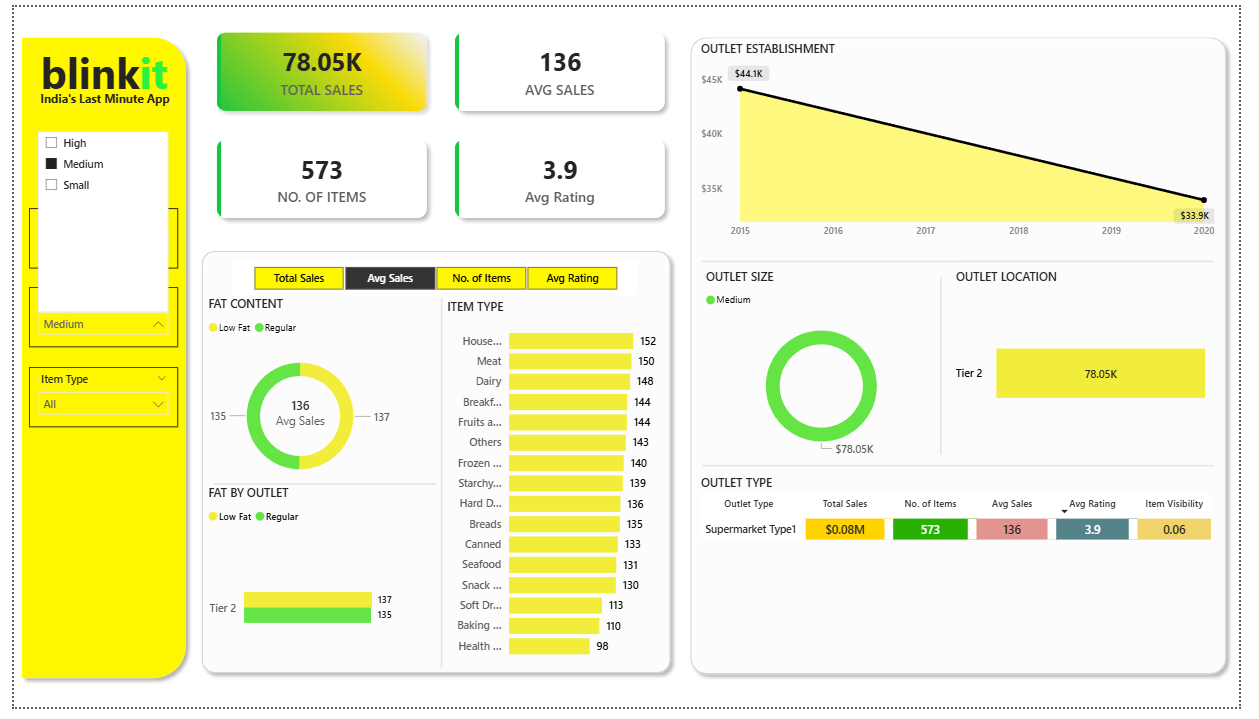

The page's visual inventory and layout, read from the dashboard file:
{"tool":"powerbi","page":{"name":"Page 1","canvas":[1400,800],"ordinal":0},"visuals":[{"type":"shape","box":[0,25.5,205.6,750.4],"z":0},{"type":"textbox","box":[22.5,90.1,162.1,30],"z":1000},{"type":"textbox","box":[4.5,37.5,198.1,82.5],"z":2000},{"type":"cardVisual","fields":{"Data":["BlinkIT Grocery Data.Total Sales","BlinkIT Grocery Data.Avg Sales","BlinkIT Grocery Data.No. of Items","BlinkIT Grocery Data.Avg Rating"]},"box":[203.3,0,570,270],"z":3000},{"type":"shape","box":[205,270,553.3,500],"z":4000},{"type":"slicer","fields":{"Values":["Matrics.Matrics"]},"box":[248.3,290,465,40],"z":5000},{"type":"donutChart","title":"FAT CONTENT","fields":{"Y":["BlinkIT Grocery Data.Avg Sales"],"Category":["BlinkIT Grocery Data.Item Fat Content"]},"box":[216.7,330,220,230],"z":6000},{"type":"cardVisual","fields":{"Data":["BlinkIT Grocery Data.Avg Sales"]},"box":[245,425,163.3,75],"z":7000},{"type":"clusteredBarChart","title":"FAT BY OUTLET","fields":{"Y":["BlinkIT Grocery Data.Avg Sales"],"Category":["BlinkIT Grocery Data.Outlet Location Type"],"Series":["BlinkIT Grocery Data.Item Fat Content"]},"box":[216.7,545,220,230],"z":8000},{"type":"shape","box":[228.3,410,253.3,270],"z":9000},{"type":"shape","box":[353.3,333.3,271.7,421.7],"z":10000},{"type":"barChart","title":"ITEM TYPE","fields":{"Y":["BlinkIT Grocery Data.Avg Sales"],"Category":["BlinkIT Grocery Data.Item Type"]},"box":[490,333.3,251.7,421.7],"z":11000},{"type":"shape","box":[764.3,25.7,630,745.7],"z":12000},{"type":"lineChart","title":"OUTLET ESTABLISHMENT","fields":{"Category":["BlinkIT Grocery Data.Outlet Establishment Year"],"Y":["BlinkIT Grocery Data.Total Sales"]},"box":[780,38.6,597.1,234.3],"z":13000},{"type":"shape","box":[785,155,585,270],"z":14000},{"type":"donutChart","title":"OUTLET SIZE","fields":{"Y":["BlinkIT Grocery Data.Total Sales"],"Category":["BlinkIT Grocery Data.Outlet Size"]},"box":[785.7,298.6,274.3,224.3],"z":15000},{"type":"funnel","title":"OUTLET LOCATION","fields":{"Y":["Sum(BlinkIT Grocery Data.Sales)"],"Category":["BlinkIT Grocery Data.Outlet Location Type"]},"box":[1071.4,298.6,300,221.4],"z":16000},{"type":"shape","box":[922.9,308.6,272.9,202.9],"z":17000},{"type":"pivotTable","title":"OUTLET TYPE","fields":{"Rows":["BlinkIT Grocery Data.Outlet Type"],"Values":["BlinkIT Grocery Data.Total Sales","BlinkIT Grocery Data.No. of Items","BlinkIT Grocery Data.Avg Sales","BlinkIT Grocery Data.Avg Rating","Avg(BlinkIT Grocery Data.Item Visibility)"]},"box":[780,534.3,597.1,192.9],"z":18000},{"type":"shape","box":[787.1,388.6,584.3,271.4],"z":19000},{"type":"slicer","fields":{"Values":["BlinkIT Grocery Data.Outlet Location Type"]},"box":[17.1,230,170,68.6],"z":20000},{"type":"slicer","fields":{"Values":["BlinkIT Grocery Data.Outlet Size"]},"box":[17.1,320,170,68.6],"z":20001},{"type":"slicer","fields":{"Values":["BlinkIT Grocery Data.Item Type"]},"box":[17.1,411.4,170,68.6],"z":20002},{"type":"textbox","box":[31.4,178.6,142.9,38.6],"z":20003}]}

Visuals, with their boxes in screenshot pixels (x1, y1, x2, y2), scaled from the page's 1400x800 canvas onto the 1259x719 screenshot:
shape: x1=0, y1=23, x2=185, y2=697
textbox: x1=20, y1=81, x2=166, y2=108
textbox: x1=4, y1=34, x2=182, y2=108
cardVisual - BlinkIT Grocery Data.Total Sales x BlinkIT Grocery Data.Avg Sales: x1=183, y1=0, x2=695, y2=243
shape: x1=184, y1=243, x2=682, y2=692
slicer - Matrics.Matrics: x1=223, y1=261, x2=641, y2=297
"FAT CONTENT" donutChart: x1=195, y1=297, x2=393, y2=503
cardVisual - BlinkIT Grocery Data.Avg Sales: x1=220, y1=382, x2=367, y2=449
"FAT BY OUTLET" clusteredBarChart: x1=195, y1=490, x2=393, y2=697
shape: x1=205, y1=368, x2=433, y2=611
shape: x1=318, y1=300, x2=562, y2=679
"ITEM TYPE" barChart: x1=441, y1=300, x2=667, y2=679
shape: x1=687, y1=23, x2=1254, y2=693
"OUTLET ESTABLISHMENT" lineChart: x1=701, y1=35, x2=1238, y2=245
shape: x1=706, y1=139, x2=1232, y2=382
"OUTLET SIZE" donutChart: x1=707, y1=268, x2=953, y2=470
"OUTLET LOCATION" funnel: x1=963, y1=268, x2=1233, y2=467
shape: x1=830, y1=277, x2=1075, y2=460
"OUTLET TYPE" pivotTable: x1=701, y1=480, x2=1238, y2=654
shape: x1=708, y1=349, x2=1233, y2=593
slicer - BlinkIT Grocery Data.Outlet Location Type: x1=15, y1=207, x2=168, y2=268
slicer - BlinkIT Grocery Data.Outlet Size: x1=15, y1=288, x2=168, y2=349
slicer - BlinkIT Grocery Data.Item Type: x1=15, y1=370, x2=168, y2=431
textbox: x1=28, y1=161, x2=157, y2=195
